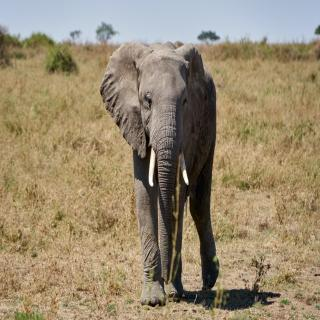Elephant: (99, 35, 245, 312)
